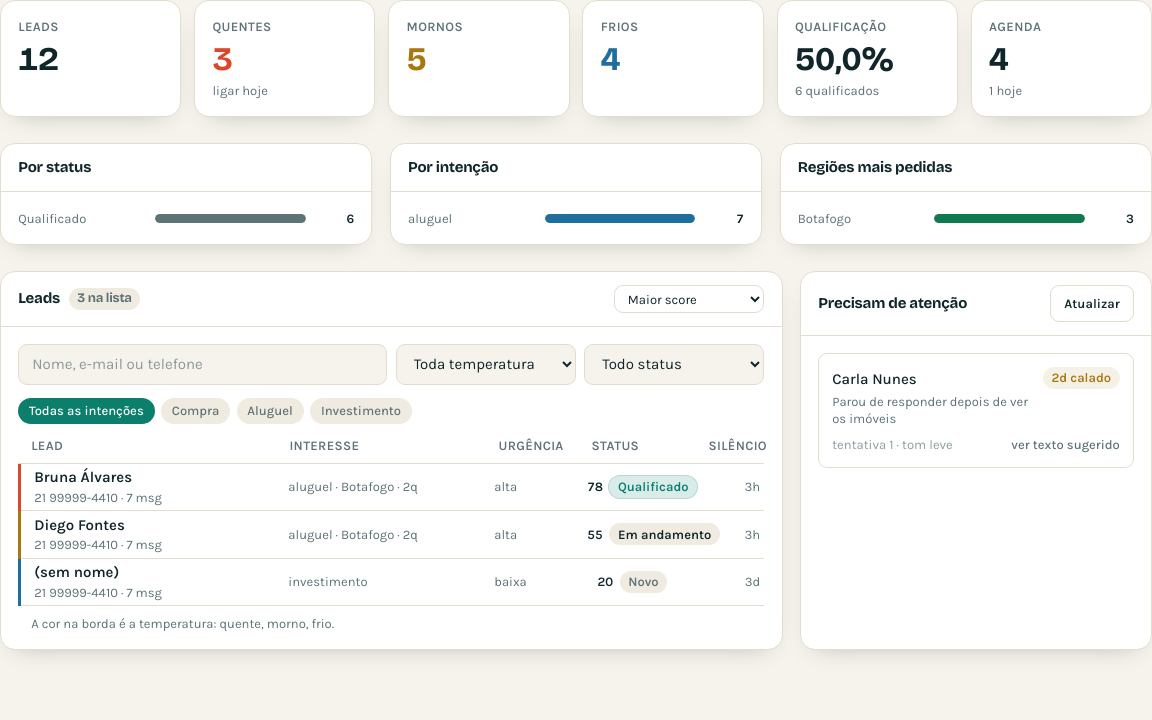
Test: follow-ups › gera o texto sugerido só quando o corretor abre o item
Expected: the link "Carla Nunes" is shown, top-left (832, 370), bottom-right (917, 388)
Click the button "ver texto sugerido". click: (1066, 445)
box: top-left (1011, 436), bottom-right (1120, 454)
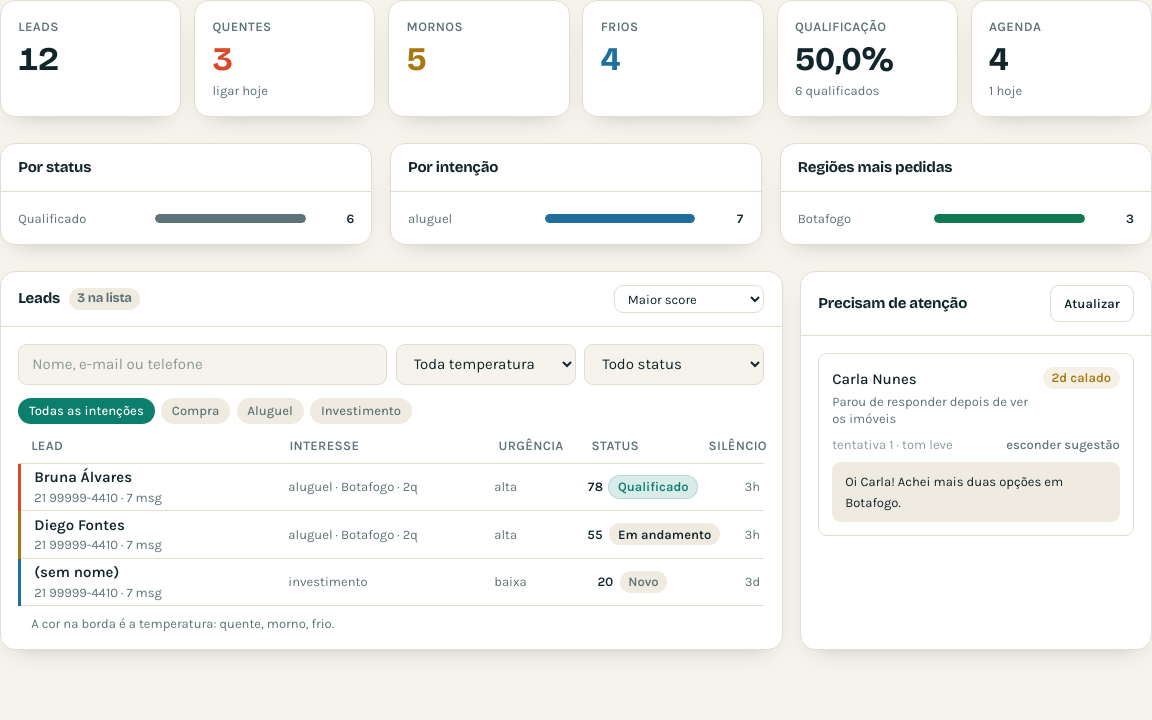
Now the text "Oi Carla! Achei mais duas opções em Botafogo." is shown, box top-left (832, 462), bottom-right (1120, 522)
